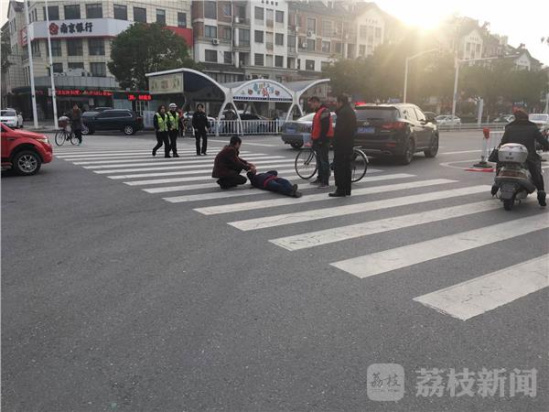10+: (40, 47, 541, 226)
down: (234, 153, 318, 212)
